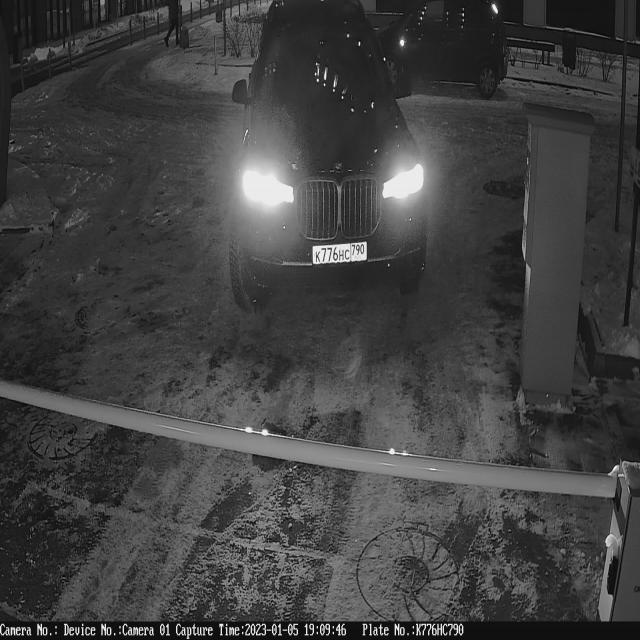car-plate-numbers: (311, 238, 370, 273)
